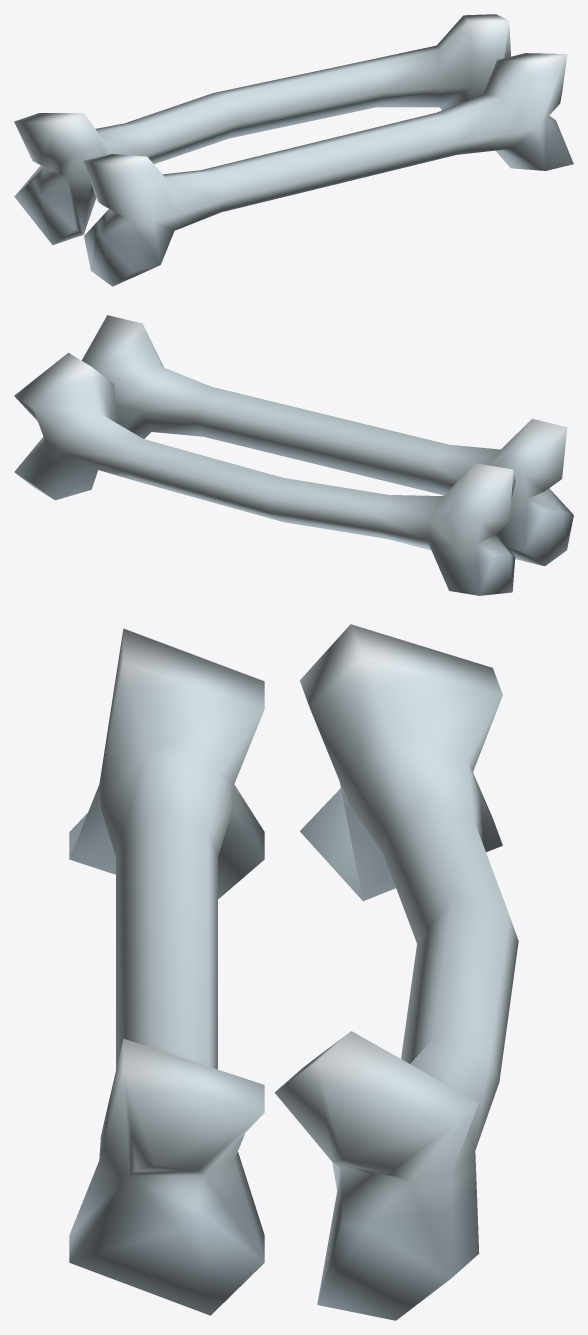
Rendered from Bone_2_color_1.FBX.
The picture shows the model from 3 angles, top to bottom: view 1: azimuth 30°, elevation 25°; view 2: azimuth 150°, elevation 25°; view 3: azimuth 270°, elevation 25°; orthographic projection. The views are drawn at different scales.
Parts seen in each view (by area): view 1: Bone; view 2: Bone; view 3: Bone.
Boxes of the visible parts, x1,y1,x2,y2 form: Bone: [14, 14, 573, 286]; Bone: [14, 315, 573, 595]; Bone: [69, 624, 518, 1320].
Bounding box in the file's own units: 0.7813 × 0.1929 × 0.321.
